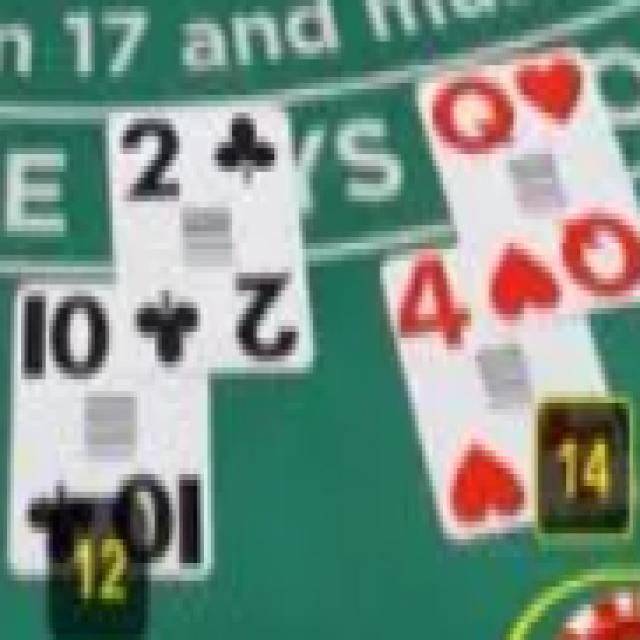Card-10: (11, 283, 211, 579)
Card-2: (109, 110, 313, 384)
Card-4: (381, 246, 608, 544)
Card-Q: (417, 46, 638, 335)
